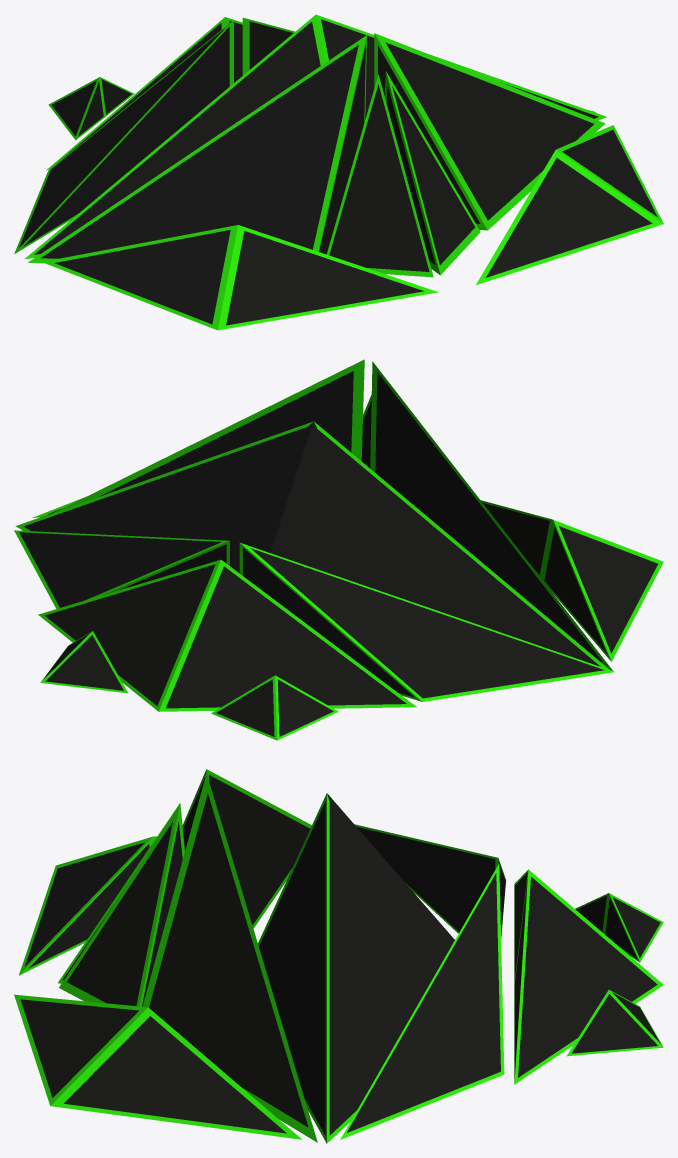
The model's file is tentoumusi.fbx.
3 renders of one model, top to bottom at view 1: azimuth 30°, elevation 25°; view 2: azimuth 150°, elevation 25°; view 3: azimuth 270°, elevation 25°, orthographic. The views are drawn at different scales.
Visible parts, largest first — view 1: Cube.004, Cube.008, Cube.005, Cube.009, Cube.002, Cube, Cube.007, Cube.006, Cube.010, Cube.001, Cube.003; view 2: Cube, Cube.001, Cube.002, Cube.004, Cube.008, Cube.003, Cube.005, Cube.010, Cube.011, Cube.006; view 3: Cube, Cube.005, Cube.009, Cube.003, Cube.001, Cube.006, Cube.004, Cube.008, Cube.002, Cube.011, Cube.010, Cube.007.
Part boxes in pixels (x1,y1,x2,y2): Cube.004: (28,35,366,263); Cube.008: (42,225,438,330); Cube.005: (374,33,605,230); Cube.009: (476,125,663,284); Cube.002: (14,20,233,253); Cube: (24,14,606,259); Cube.007: (326,74,433,277); Cube.006: (384,71,480,275); Cube.010: (48,77,134,140); Cube.001: (46,17,242,170); Cube.003: (242,17,595,112); Cube: (15,421,609,669); Cube.001: (38,559,416,711); Cube.002: (239,543,614,701); Cube.004: (370,361,612,670); Cube.008: (480,500,663,661); Cube.003: (14,530,229,608); Cube.005: (56,359,364,511); Cube.010: (211,675,338,740); Cube.011: (40,631,127,693); Cube.006: (361,395,371,468); Cube: (258,793,454,1143); Cube.005: (142,773,317,1142); Cube.009: (14,994,302,1139); Cube.003: (340,863,504,1139); Cube.001: (514,869,663,1084); Cube.006: (59,805,184,1006); Cube.004: (182,769,311,928); Cube.008: (18,836,156,975); Cube.002: (354,824,506,938); Cube.011: (567,989,663,1056); Cube.010: (575,893,663,962); Cube.007: (58,803,184,983).
Bounding box in the file's own units: 2.02 × 0.6409 × 1.74.
